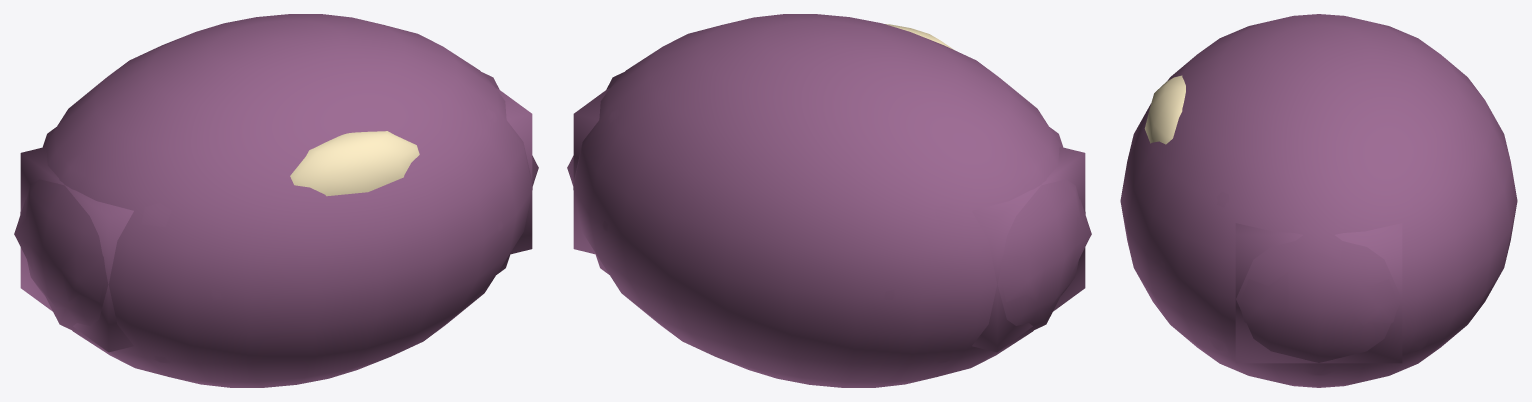
The model's file is ENM_Anchor.glb.
3 views of the same model, side by side, from view 1: azimuth 30°, elevation 25°; view 2: azimuth 150°, elevation 25°; view 3: azimuth 270°, elevation 25° (orthographic). The views are drawn at different scales.
Parts seen in each view (by area): view 1: VIS_ENM_Anchor_LOD0, VIS_ENM_Anchor_Crest, FRAG_ENM_Anchor_01, COL_ENM_Anchor_Hull, FRAG_ENM_Anchor_02; view 2: VIS_ENM_Anchor_LOD0, FRAG_ENM_Anchor_01, COL_ENM_Anchor_Hull, FRAG_ENM_Anchor_02; view 3: VIS_ENM_Anchor_LOD0, FRAG_ENM_Anchor_02, COL_ENM_Anchor_Hull, VIS_ENM_Anchor_Crest.
Part boxes in pixels (x1,y1,x2,y2): VIS_ENM_Anchor_LOD0: (20,14,532,387); VIS_ENM_Anchor_Crest: (290,131,419,196); FRAG_ENM_Anchor_01: (20,147,133,352); COL_ENM_Anchor_Hull: (14,72,538,363); FRAG_ENM_Anchor_02: (496,88,532,254); VIS_ENM_Anchor_LOD0: (573,14,1085,387); FRAG_ENM_Anchor_01: (972,147,1085,352); COL_ENM_Anchor_Hull: (567,72,1091,363); FRAG_ENM_Anchor_02: (573,88,609,254); VIS_ENM_Anchor_LOD0: (1120,14,1517,387); FRAG_ENM_Anchor_02: (1235,223,1402,363); COL_ENM_Anchor_Hull: (1160,191,1477,375); VIS_ENM_Anchor_Crest: (1144,75,1185,144).
Size of what is drawn, in the model's own units: 1.3 by 0.85 by 1.
